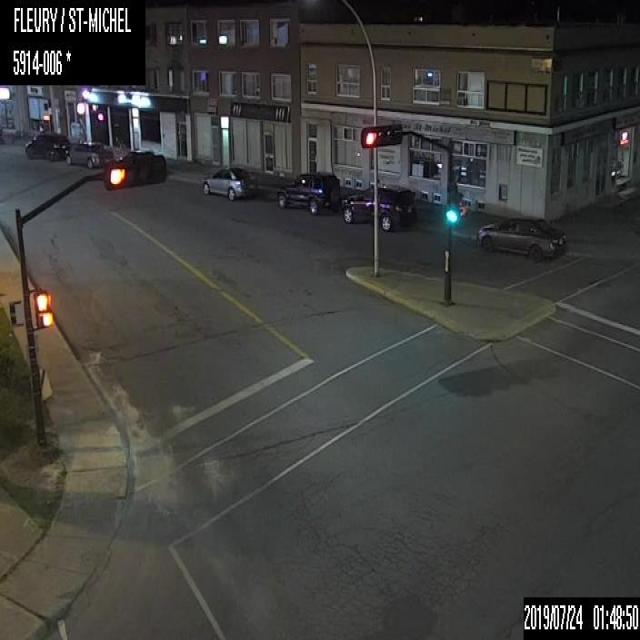vehicle: (474, 214, 567, 262), (342, 179, 420, 232), (274, 169, 341, 216), (199, 163, 256, 201), (22, 129, 70, 161), (65, 139, 114, 168)
